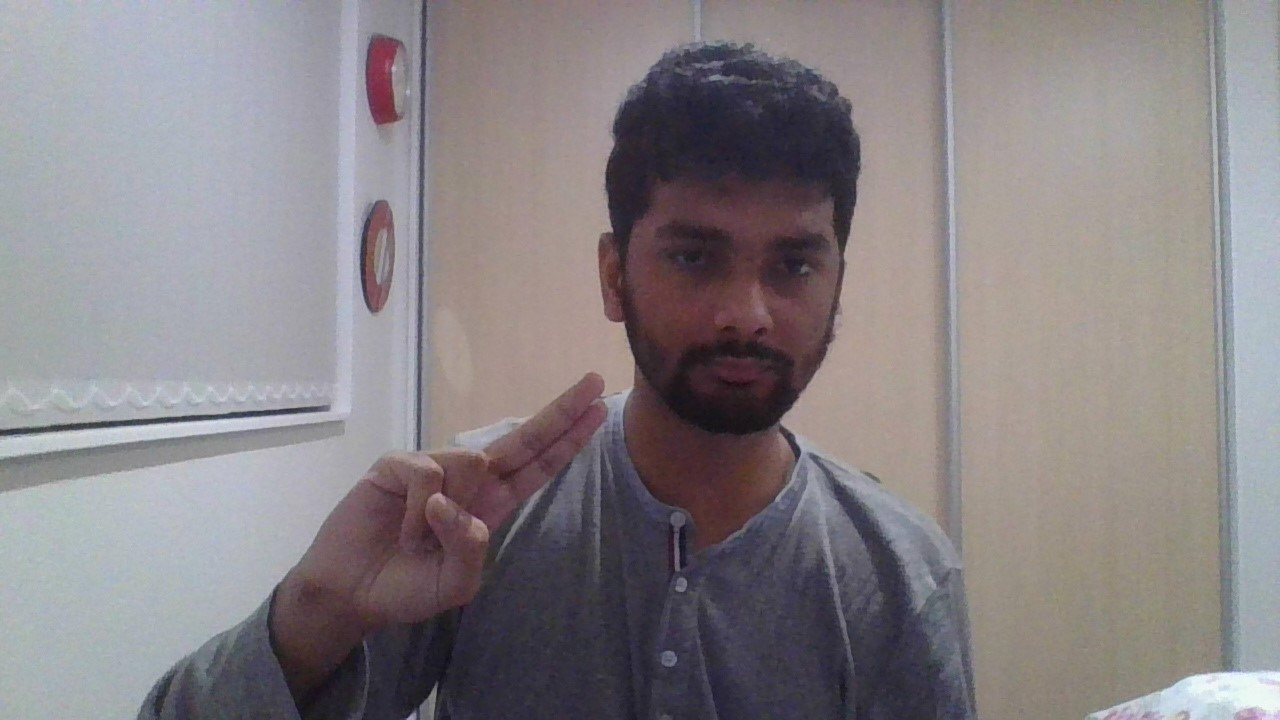peace: (297, 372, 608, 622)
